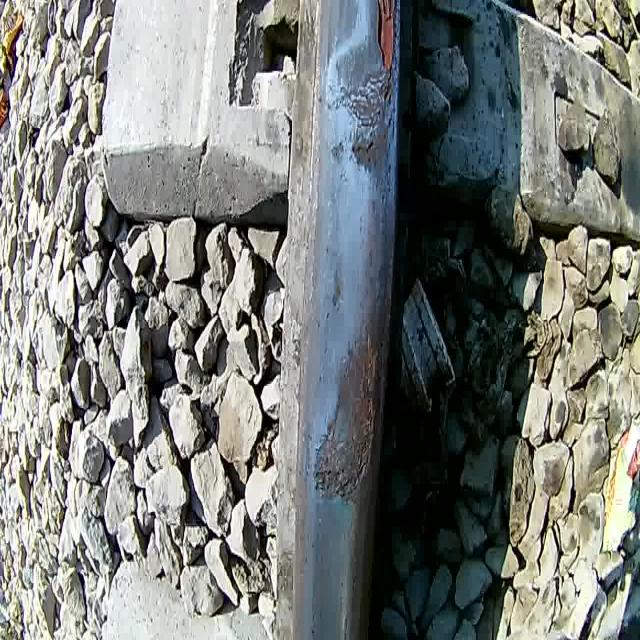Cracks: (347, 130, 377, 159), (382, 60, 395, 114)
Spallings: (310, 326, 384, 509), (374, 0, 397, 76)
Squats: (329, 0, 396, 209), (326, 264, 346, 317)
